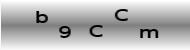9: (57, 24, 71, 39)
C: (88, 23, 104, 38), (114, 8, 130, 22)
b: (35, 10, 49, 24)
m: (139, 27, 159, 39)
